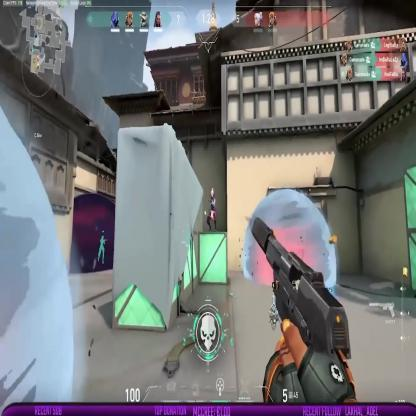enemy: (206, 185, 216, 234)
enemy_head: (210, 188, 214, 197)
